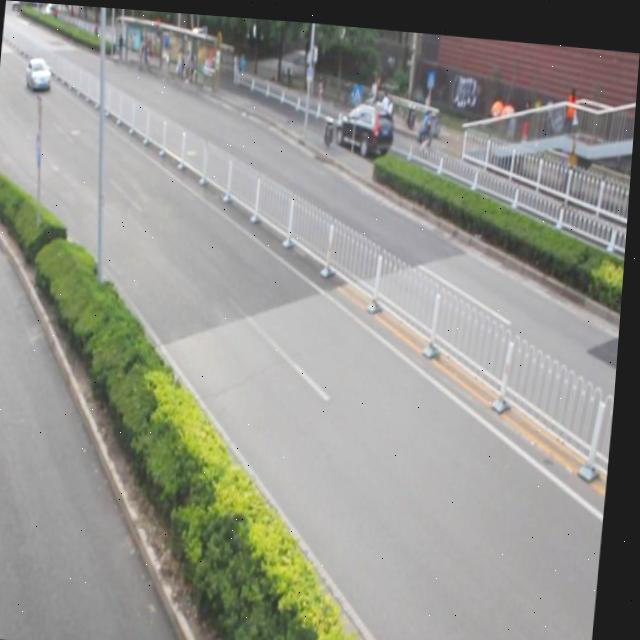car: (330, 94, 396, 158)
